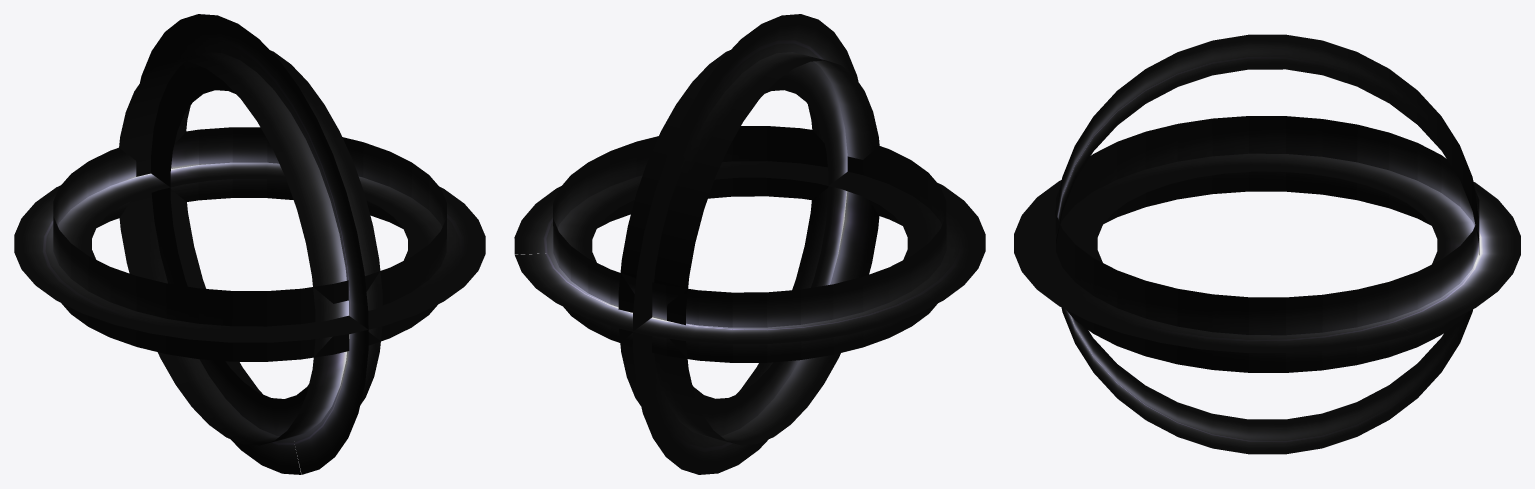
The model's file is ring_02.FBX.
3 renders of one model, left to right at view 1: azimuth 30°, elevation 25°; view 2: azimuth 150°, elevation 25°; view 3: azimuth 270°, elevation 25°, orthographic. The views are drawn at different scales.
Visible parts, largest first — view 1: Loft002; view 2: Loft002; view 3: Loft002.
Boxes of the visible parts, left/top/right/bottom form: Loft002: left=14, top=14, right=485, bottom=474; Loft002: left=514, top=14, right=985, bottom=474; Loft002: left=1014, top=34, right=1520, bottom=454.
Size of the model in its own units: 955 by 955 by 955.
